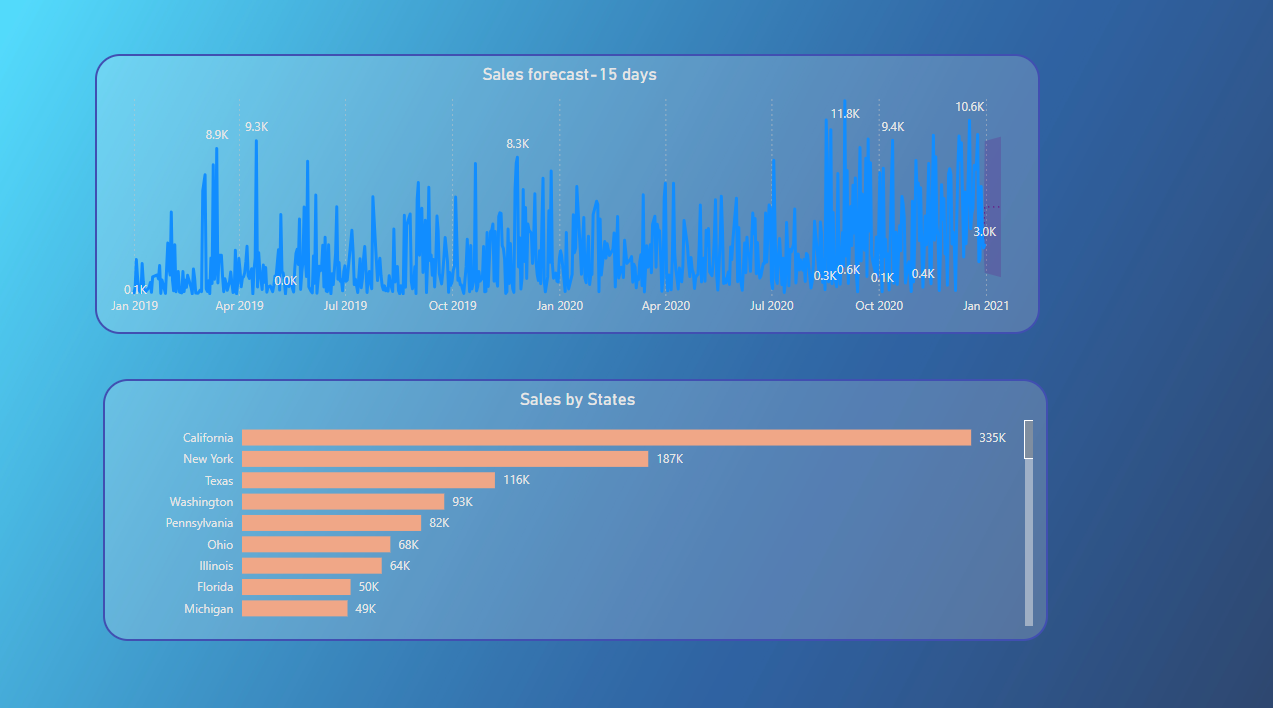

The page's visual inventory and layout, read from the dashboard file:
{"tool":"powerbi","page":{"name":"Page 2","canvas":[1280,720],"ordinal":1},"visuals":[{"type":"lineChart","title":"Sales forecast-15 days","fields":{"Y":["Sum(SuperStore_Sales_Dataset_CLEAN.Sales)"],"Category":["SuperStore_Sales_Dataset_CLEAN.Order Date"]},"box":[101,56,945,280],"z":0},{"type":"barChart","title":"Sales by States","fields":{"Y":["Sum(SuperStore_Sales_Dataset_CLEAN.Sales)"],"Category":["SuperStore_Sales_Dataset_CLEAN.State"]},"box":[109,381,945,262],"z":1}]}

Visuals, with their boxes in screenshot pixels (x1, y1, x2, y2), scaled from the page's 1280x720 canvas onto the 1273x708 screenshot:
"Sales forecast-15 days" lineChart: 100,55,1040,330
"Sales by States" barChart: 108,375,1048,632
